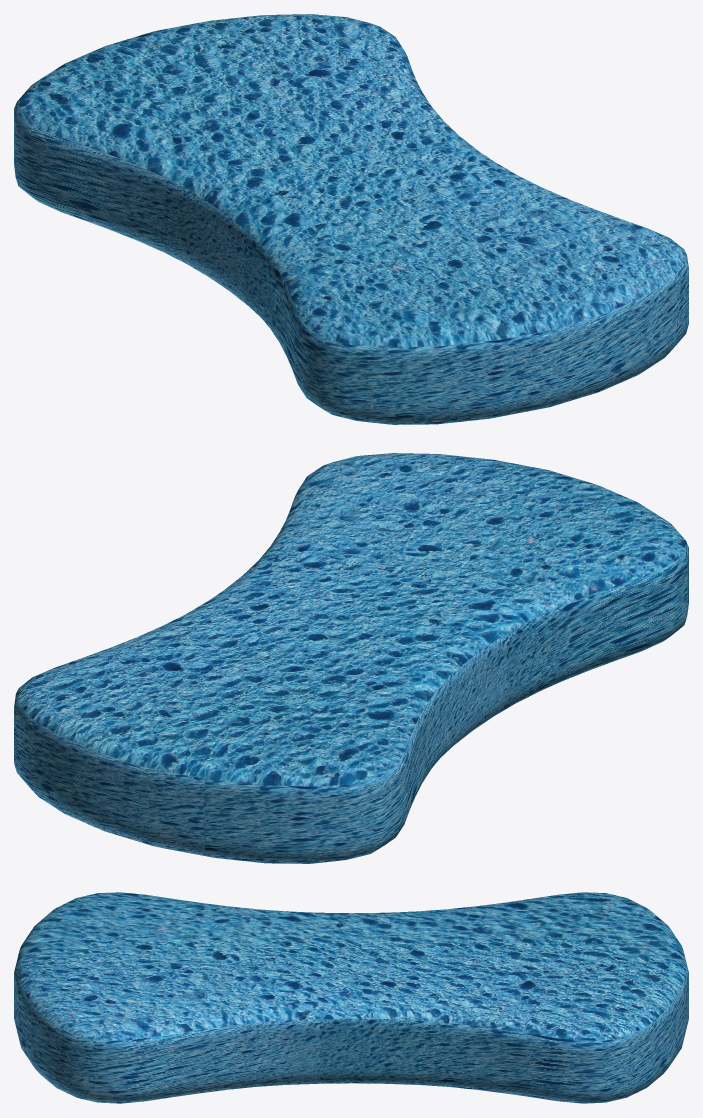
Rendered from building_sponge.fbx.
3 renders of one model, top to bottom at view 1: azimuth 30°, elevation 25°; view 2: azimuth 150°, elevation 25°; view 3: azimuth 270°, elevation 25°, orthographic. The views are drawn at different scales.
Visible parts, largest first — view 1: pCube1; view 2: pCube1; view 3: pCube1.
Boxes of the visible parts, x1,y1,x2,y2 form: pCube1: (14,14,688,424); pCube1: (14,453,688,863); pCube1: (14,892,688,1103).
Bounding box in the file's own units: 5.06 × 1.4 × 9.62.
Materials: 1 (1 with a texture image).
